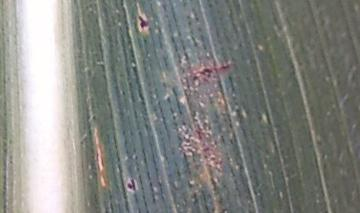tarspot: (136, 13, 150, 31), (125, 177, 138, 191), (197, 67, 214, 76), (193, 128, 203, 141), (220, 62, 231, 71), (190, 74, 201, 82), (100, 154, 105, 169), (119, 89, 127, 97), (315, 138, 322, 145), (203, 146, 210, 152), (91, 114, 97, 120), (205, 74, 212, 78), (204, 153, 208, 160), (211, 155, 215, 161)
